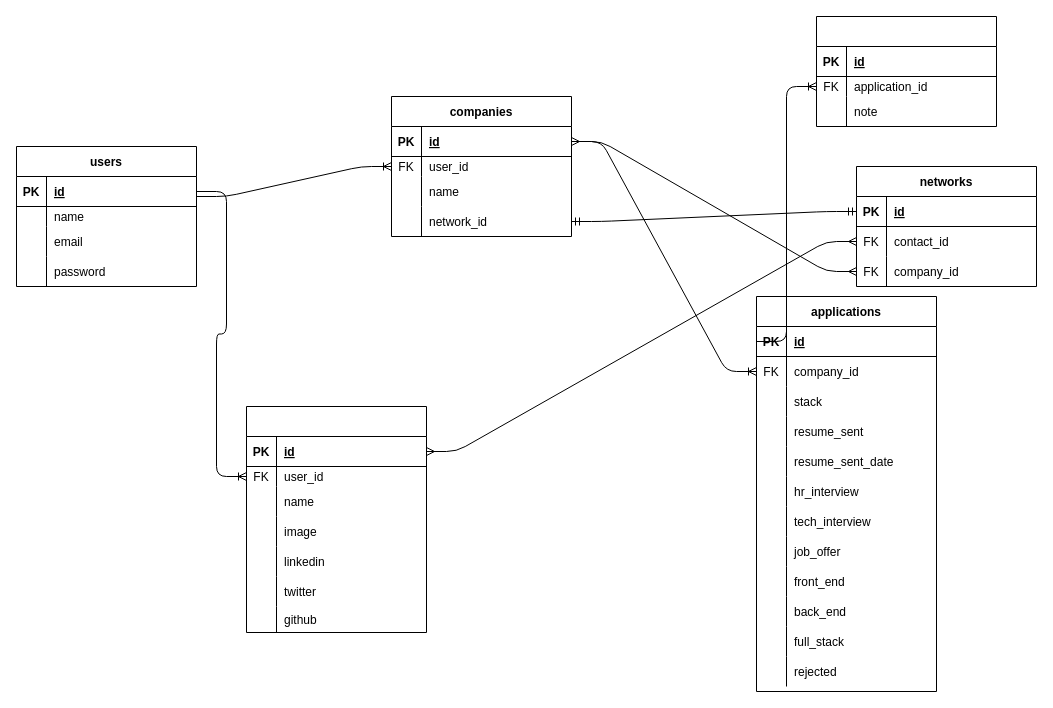
This 1053x708 diagram has some shape labels left out. Here are the shapes that lost their labels. From the top down, the box of each, then its label:
(816, 16, 996, 126): notes
(246, 406, 426, 632): contacts
